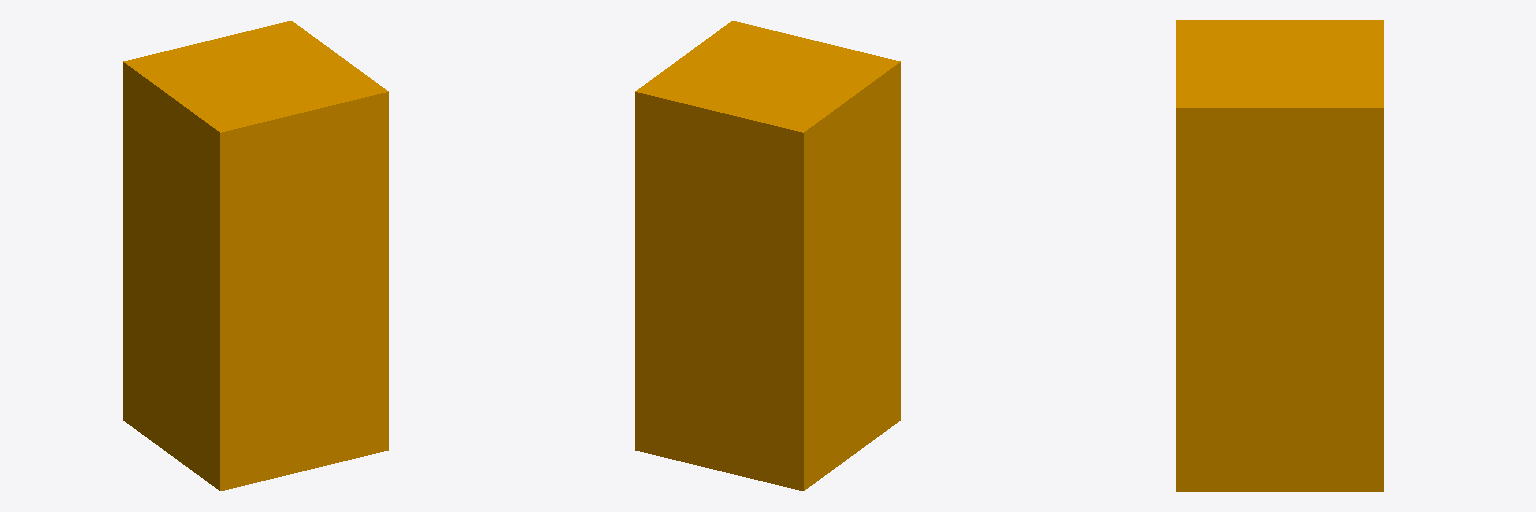
URDF robot description (simple_box):
<robot name="simple_box">
  <link name="my_box">
    <inertial>
      <origin xyz="0 0 0.0295" /> 
      <mass value="0.1" />
      <inertia  ixx="0.0001" ixy="0.0"  ixz="0.0"  iyy="0.0001"  iyz="0.0"  izz="0.0001" />
    </inertial>
    <visual>
      <origin xyz="0 0 0.0295"/>
      <geometry>
        <box size="0.029 0.029 0.059"/>
      </geometry>
    </visual>
    <collision>
      <origin xyz="0 0 0.0295"/>
      <geometry>
        <box size="0.029 0.029 0.059"/>
      </geometry>
    </collision>
  </link>
  <gazebo reference="my_box">
    <material>Gazebo/Red</material>
  </gazebo>
</robot>

--- What the picture shows (computed from the rendered views, not written in the file) ---
Views: 3 orthographic renders of the robot side by side, from view 1: azimuth 30°, elevation 25°; view 2: azimuth 150°, elevation 25°; view 3: azimuth 270°, elevation 25°.
Robot: simple_box — 1 links, 0 joints (none); root link my_box; default pose: all joints at 0.
Visible links, largest first — view 1: my_box; view 2: my_box; view 3: my_box.
Boxes of the visible links, <box> form: my_box: <box>123,21,388,490</box>; my_box: <box>635,21,900,490</box>; my_box: <box>1176,20,1383,491</box>.
Bounding box of the posed robot: 0.029 × 0.029 × 0.059 m (x, y, z).
Geometry: primitives only (box / cylinder / sphere), no mesh files.